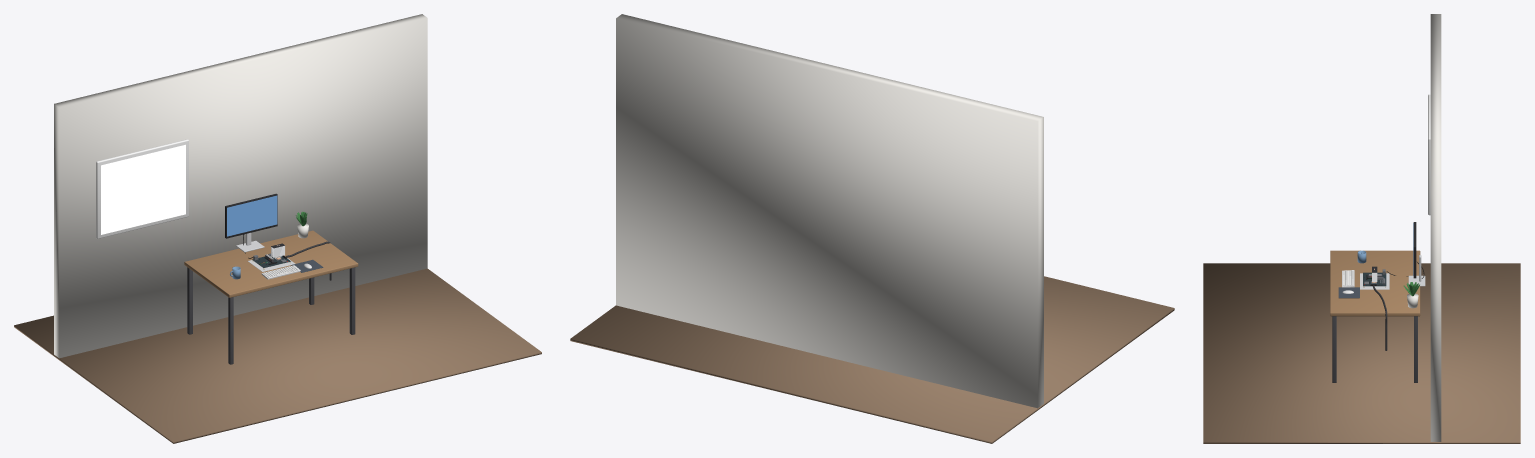
Rendered from desk-pc.glb.
3 renders of one model, left to right at view 1: azimuth 30°, elevation 25°; view 2: azimuth 150°, elevation 25°; view 3: azimuth 270°, elevation 25°, orthographic. The views are drawn at different scales.
Visible parts, largest first — view 1: Static_Room, WindowPane, Mon_Screen, Static_PC; view 2: Static_Room; view 3: Static_Room, Static_PC.
Part boxes in pixels (x1,y1,x2,y2): Static_Room: (14,14,541,443); WindowPane: (101,144,185,234); Mon_Screen: (227,195,277,236); Static_PC: (243,234,331,280); Static_Room: (570,14,1174,443); Static_Room: (1203,14,1520,443); Static_PC: (1360,262,1424,350).
Bounding box in the file's own units: 4 × 2.62 × 3.
